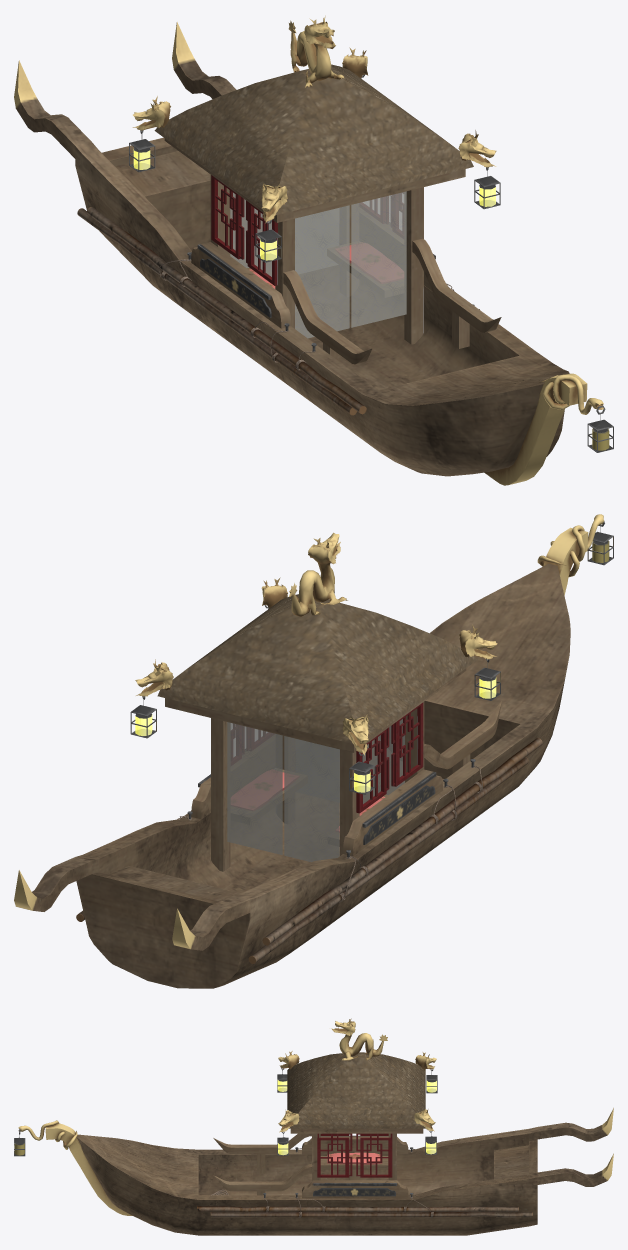
The picture shows the model from 3 angles, top to bottom: view 1: azimuth 30°, elevation 25°; view 2: azimuth 150°, elevation 25°; view 3: azimuth 270°, elevation 25°; orthographic projection. The views are drawn at different scales.
Parts seen in each view (by area): view 1: Ship; view 2: Ship; view 3: Ship.
Part boxes in pixels (x1,y1,x2,y2): Ship: (14,15,613,485); Ship: (14,514,613,988); Ship: (14,1018,613,1235).
Bounding box in the file's own units: 6.24 × 8.79 × 23.2.
3 materials, 3 textured.
